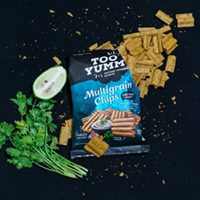plastic: (74, 49, 141, 157)
tooyumm: (82, 53, 127, 78)
wrapper: (71, 48, 152, 158)
